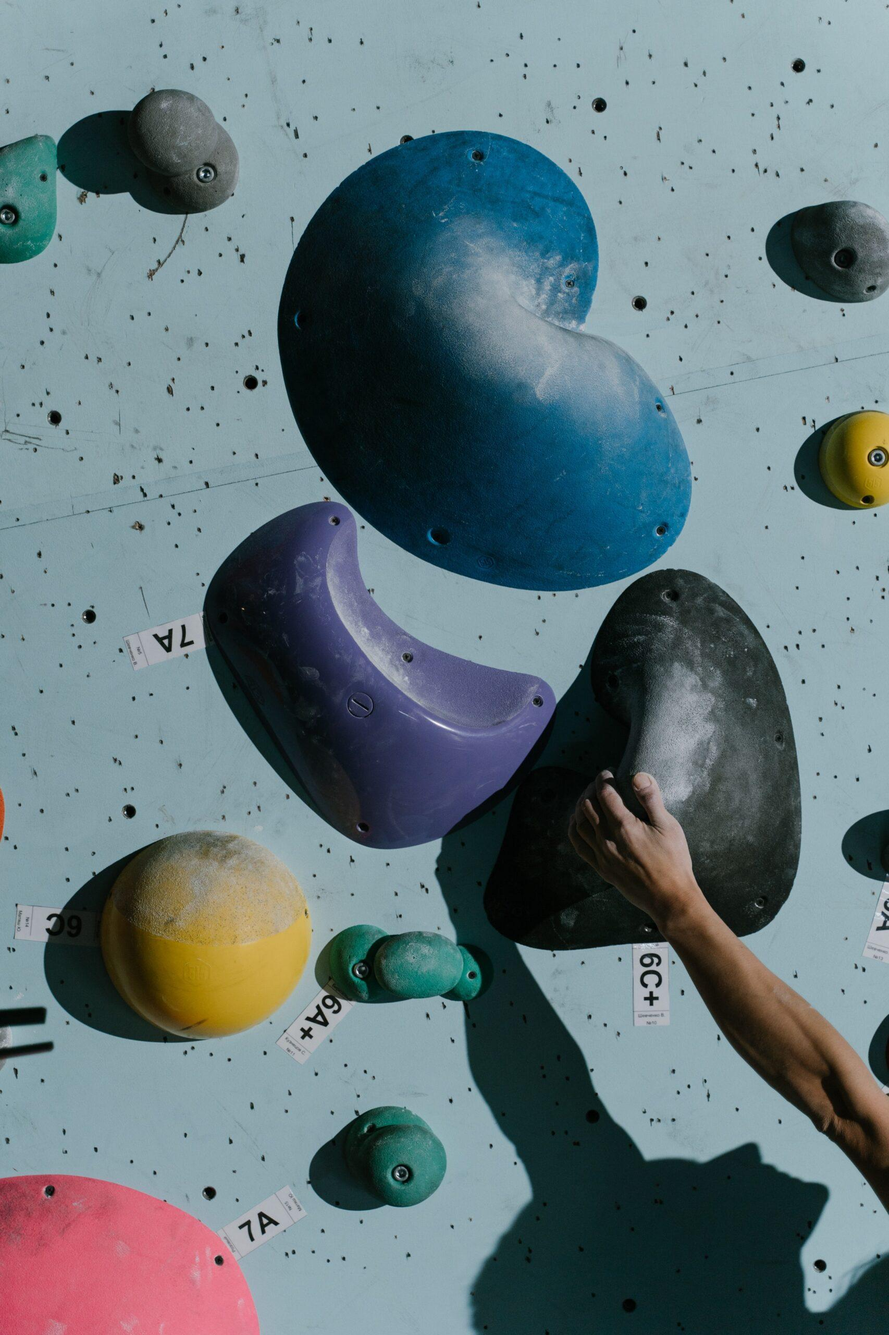black-hold: (214, 88, 723, 670), (471, 540, 877, 1020), (140, 468, 575, 893), (60, 787, 353, 1081), (0, 1174, 261, 1335), (112, 69, 256, 230), (326, 1085, 464, 1225), (328, 925, 482, 1001), (789, 200, 889, 303), (0, 135, 57, 264), (818, 410, 889, 508)
